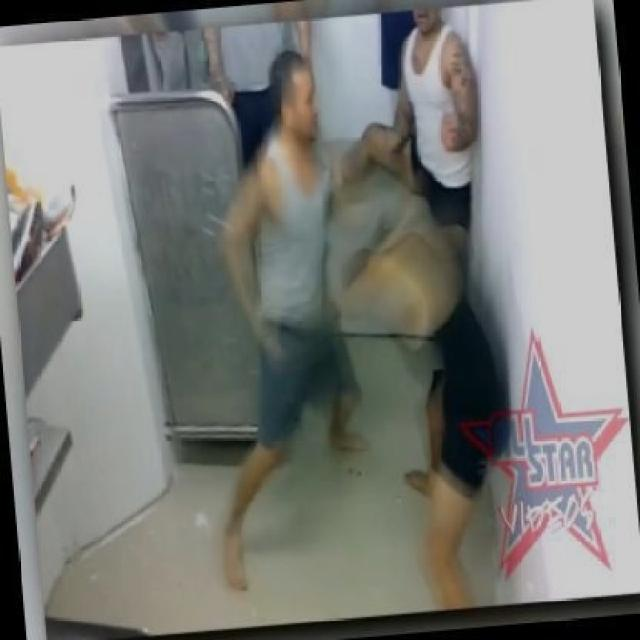fight: (152, 53, 512, 637)
